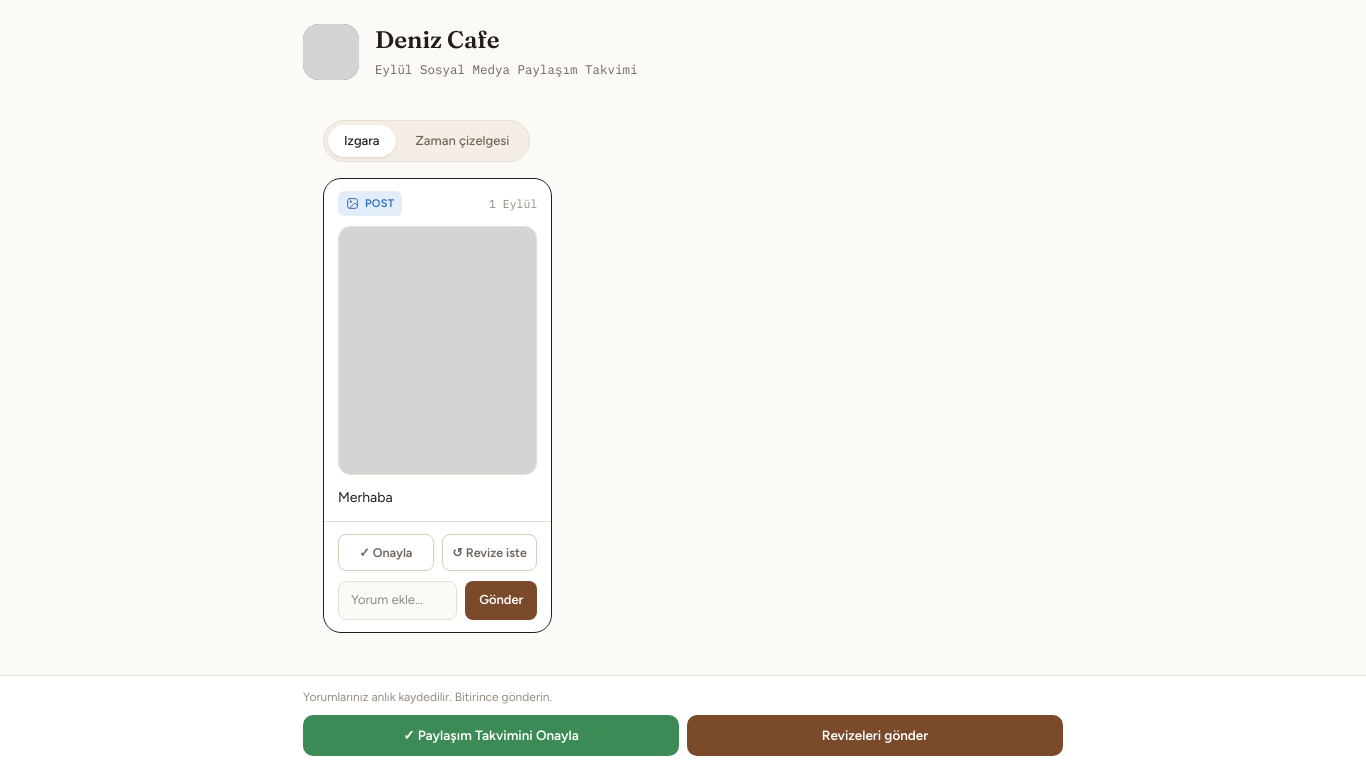
Test: BrandViewClient — approve vs. send-revisions are separate actions › send-revisions posts round: revize, never inferred from item statuses
What coordinates should you click on to do the following:
click the button "Revizeleri gönder"
I would click on:
 (875, 736)
Its box is [687,715,1063,756].
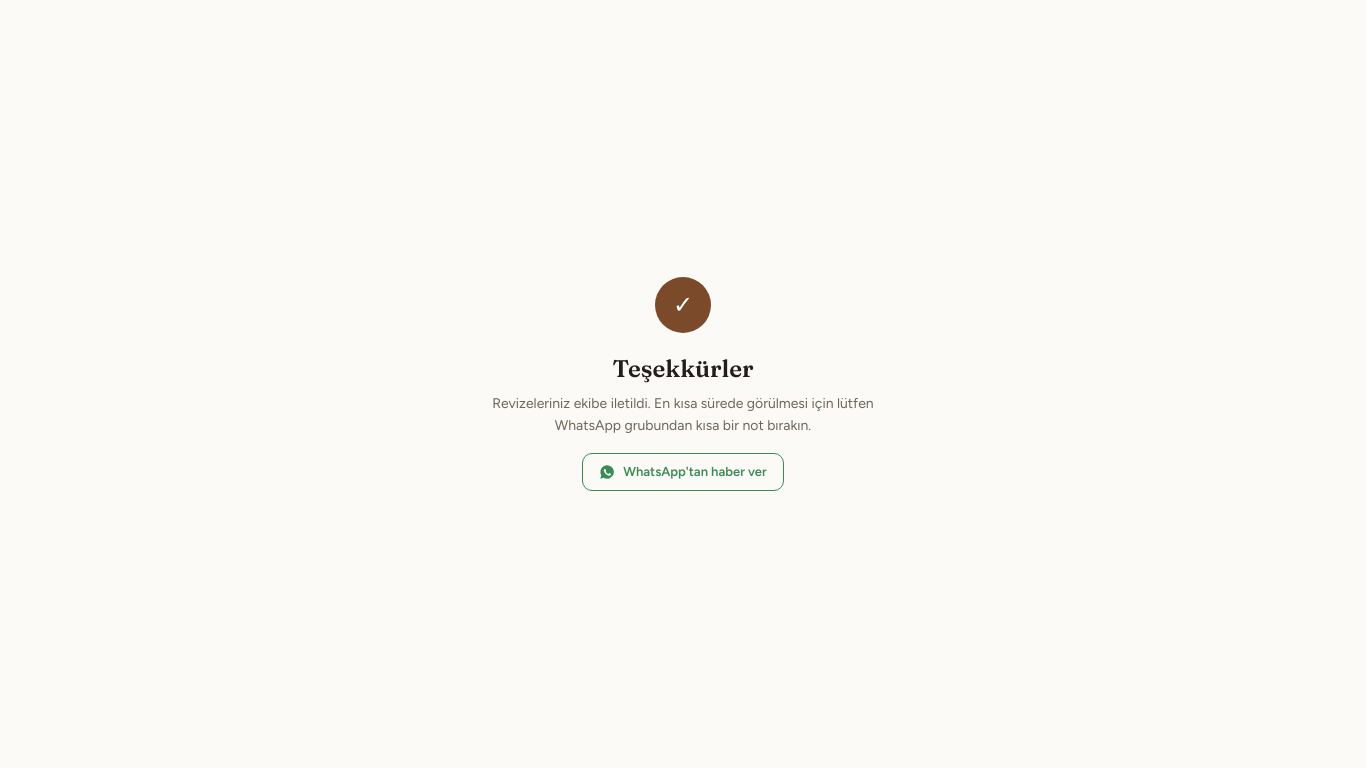
Now the text "Revizeleriniz ekibe iletildi" is shown, box [492,395,874,434]
